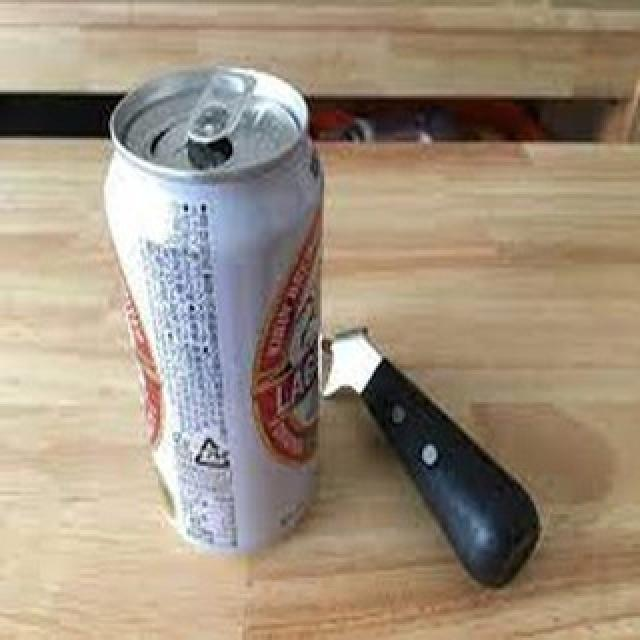recyclable: (103, 63, 326, 557)
